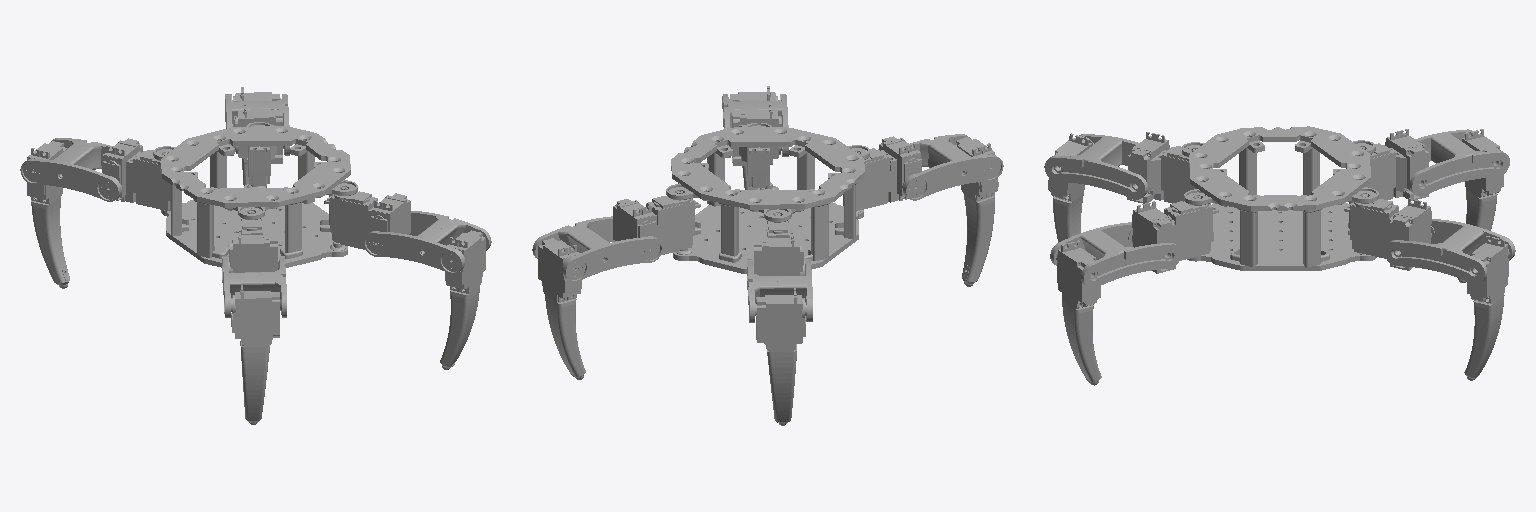
The robot description file, URDF, robot "full_body":
<?xml version="1.0" ?>
<!-- =================================================================================== -->
<!-- |    This document was autogenerated by xacro from urdf/full_body.xacro           | -->
<!-- |    EDITING THIS FILE BY HAND IS NOT RECOMMENDED                                 | -->
<!-- =================================================================================== -->
<robot xmlns:xacro="http://www.ros.org/wiki/xacro" name="full_body">
  <material name="silver">
    <color rgba="0.700 0.700 0.700 1.000"/>
  </material>
  <transmission name="FR_hip_tran">
    <type>transmission_interface/SimpleTransmission</type>
    <joint name="FR_hip">
      <hardwareInterface>hardware_interface/EffortJointInterface</hardwareInterface>
    </joint>
    <actuator name="FR_hip_actr">
      <hardwareInterface>hardware_interface/EffortJointInterface</hardwareInterface>
      <mechanicalReduction>1</mechanicalReduction>
    </actuator>
  </transmission>
  <transmission name="FR_thigh_tran">
    <type>transmission_interface/SimpleTransmission</type>
    <joint name="FR_thigh">
      <hardwareInterface>hardware_interface/EffortJointInterface</hardwareInterface>
    </joint>
    <actuator name="FR_thigh_actr">
      <hardwareInterface>hardware_interface/EffortJointInterface</hardwareInterface>
      <mechanicalReduction>1</mechanicalReduction>
    </actuator>
  </transmission>
  <transmission name="FR_calf_tran">
    <type>transmission_interface/SimpleTransmission</type>
    <joint name="FR_calf">
      <hardwareInterface>hardware_interface/EffortJointInterface</hardwareInterface>
    </joint>
    <actuator name="FR_calf_actr">
      <hardwareInterface>hardware_interface/EffortJointInterface</hardwareInterface>
      <mechanicalReduction>1</mechanicalReduction>
    </actuator>
  </transmission>
  <transmission name="BR_hip_tran">
    <type>transmission_interface/SimpleTransmission</type>
    <joint name="BR_hip">
      <hardwareInterface>hardware_interface/EffortJointInterface</hardwareInterface>
    </joint>
    <actuator name="BR_hip_actr">
      <hardwareInterface>hardware_interface/EffortJointInterface</hardwareInterface>
      <mechanicalReduction>1</mechanicalReduction>
    </actuator>
  </transmission>
  <transmission name="BR_thigh_tran">
    <type>transmission_interface/SimpleTransmission</type>
    <joint name="BR_thigh">
      <hardwareInterface>hardware_interface/EffortJointInterface</hardwareInterface>
    </joint>
    <actuator name="BR_thigh_actr">
      <hardwareInterface>hardware_interface/EffortJointInterface</hardwareInterface>
      <mechanicalReduction>1</mechanicalReduction>
    </actuator>
  </transmission>
  <transmission name="BR_calf_tran">
    <type>transmission_interface/SimpleTransmission</type>
    <joint name="BR_calf">
      <hardwareInterface>hardware_interface/EffortJointInterface</hardwareInterface>
    </joint>
    <actuator name="BR_calf_actr">
      <hardwareInterface>hardware_interface/EffortJointInterface</hardwareInterface>
      <mechanicalReduction>1</mechanicalReduction>
    </actuator>
  </transmission>
  <transmission name="BL_hip_tran">
    <type>transmission_interface/SimpleTransmission</type>
    <joint name="BL_hip">
      <hardwareInterface>hardware_interface/EffortJointInterface</hardwareInterface>
    </joint>
    <actuator name="BL_hip_actr">
      <hardwareInterface>hardware_interface/EffortJointInterface</hardwareInterface>
      <mechanicalReduction>1</mechanicalReduction>
    </actuator>
  </transmission>
  <transmission name="BL_thigh_tran">
    <type>transmission_interface/SimpleTransmission</type>
    <joint name="BL_thigh">
      <hardwareInterface>hardware_interface/EffortJointInterface</hardwareInterface>
    </joint>
    <actuator name="BL_thigh_actr">
      <hardwareInterface>hardware_interface/EffortJointInterface</hardwareInterface>
      <mechanicalReduction>1</mechanicalReduction>
    </actuator>
  </transmission>
  <transmission name="BL_calf_tran">
    <type>transmission_interface/SimpleTransmission</type>
    <joint name="BL_calf">
      <hardwareInterface>hardware_interface/EffortJointInterface</hardwareInterface>
    </joint>
    <actuator name="BL_calf_actr">
      <hardwareInterface>hardware_interface/EffortJointInterface</hardwareInterface>
      <mechanicalReduction>1</mechanicalReduction>
    </actuator>
  </transmission>
  <transmission name="FL_hip_tran">
    <type>transmission_interface/SimpleTransmission</type>
    <joint name="FL_hip">
      <hardwareInterface>hardware_interface/EffortJointInterface</hardwareInterface>
    </joint>
    <actuator name="FL_hip_actr">
      <hardwareInterface>hardware_interface/EffortJointInterface</hardwareInterface>
      <mechanicalReduction>1</mechanicalReduction>
    </actuator>
  </transmission>
  <transmission name="FL_thigh_tran">
    <type>transmission_interface/SimpleTransmission</type>
    <joint name="FL_thigh">
      <hardwareInterface>hardware_interface/EffortJointInterface</hardwareInterface>
    </joint>
    <actuator name="FL_thigh_actr">
      <hardwareInterface>hardware_interface/EffortJointInterface</hardwareInterface>
      <mechanicalReduction>1</mechanicalReduction>
    </actuator>
  </transmission>
  <transmission name="FL_calf_tran">
    <type>transmission_interface/SimpleTransmission</type>
    <joint name="FL_calf">
      <hardwareInterface>hardware_interface/EffortJointInterface</hardwareInterface>
    </joint>
    <actuator name="FL_calf_actr">
      <hardwareInterface>hardware_interface/EffortJointInterface</hardwareInterface>
      <mechanicalReduction>1</mechanicalReduction>
    </actuator>
  </transmission>
  <gazebo>
    <plugin name="control" filename="libgazebo_ros_control.so"/>
  </gazebo>
  <gazebo reference="base_link">
    <material>Gazebo/Silver</material>
    <mu1>0.2</mu1>
    <mu2>0.2</mu2>
    <selfCollide>true</selfCollide>
    <gravity>true</gravity>
  </gazebo>
  <gazebo reference="front_right_hip_1">
    <material>Gazebo/Silver</material>
    <mu1>0.2</mu1>
    <mu2>0.2</mu2>
    <selfCollide>true</selfCollide>
  </gazebo>
  <gazebo reference="front_right_thigh_1">
    <material>Gazebo/Silver</material>
    <mu1>0.2</mu1>
    <mu2>0.2</mu2>
    <selfCollide>true</selfCollide>
  </gazebo>
  <gazebo reference="front_right_calf_1">
    <material>Gazebo/Silver</material>
    <mu1>0.2</mu1>
    <mu2>0.2</mu2>
    <selfCollide>true</selfCollide>
  </gazebo>
  <gazebo reference="back_right_hip_1">
    <material>Gazebo/Silver</material>
    <mu1>0.2</mu1>
    <mu2>0.2</mu2>
    <selfCollide>true</selfCollide>
  </gazebo>
  <gazebo reference="back_right_thigh_1">
    <material>Gazebo/Silver</material>
    <mu1>0.2</mu1>
    <mu2>0.2</mu2>
    <selfCollide>true</selfCollide>
  </gazebo>
  <gazebo reference="back_right_calf_1">
    <material>Gazebo/Silver</material>
    <mu1>0.2</mu1>
    <mu2>0.2</mu2>
    <selfCollide>true</selfCollide>
  </gazebo>
  <gazebo reference="back_left_hip_1">
    <material>Gazebo/Silver</material>
    <mu1>0.2</mu1>
    <mu2>0.2</mu2>
    <selfCollide>true</selfCollide>
  </gazebo>
  <gazebo reference="back_left_thigh_1">
    <material>Gazebo/Silver</material>
    <mu1>0.2</mu1>
    <mu2>0.2</mu2>
    <selfCollide>true</selfCollide>
  </gazebo>
  <gazebo reference="back_left_calf_1">
    <material>Gazebo/Silver</material>
    <mu1>0.2</mu1>
    <mu2>0.2</mu2>
    <selfCollide>true</selfCollide>
  </gazebo>
  <gazebo reference="front_left_hip_1">
    <material>Gazebo/Silver</material>
    <mu1>0.2</mu1>
    <mu2>0.2</mu2>
    <selfCollide>true</selfCollide>
  </gazebo>
  <gazebo reference="front_left_thigh_1">
    <material>Gazebo/Silver</material>
    <mu1>0.2</mu1>
    <mu2>0.2</mu2>
    <selfCollide>true</selfCollide>
  </gazebo>
  <gazebo reference="front_left_calf_1">
    <material>Gazebo/Silver</material>
    <mu1>0.2</mu1>
    <mu2>0.2</mu2>
    <selfCollide>true</selfCollide>
  </gazebo>
  <link name="base_link">
    <inertial>
      <origin xyz="-0.009783288059672884 -0.12747137130856984 0.019319313780907642" rpy="0 0 0"/>
      <mass value="0.25174810750691173"/>
      <inertia ixx="0.000821" iyy="0.000784" izz="0.00117" ixy="1e-06" iyz="2e-06" ixz="-3e-06"/>
    </inertial>
    <visual>
      <origin xyz="0 0 0" rpy="0 0 0"/>
      <geometry>
        <mesh filename="package://full_body_description/meshes/base_link.stl" scale="0.001 0.001 0.001"/>
      </geometry>
      <material name="silver"/>
    </visual>
    <collision>
      <origin xyz="0 0 0" rpy="0 0 0"/>
      <geometry>
        <mesh filename="package://full_body_description/meshes/base_link.stl" scale="0.001 0.001 0.001"/>
      </geometry>
    </collision>
  </link>
  <link name="front_right_hip_1">
    <inertial>
      <origin xyz="0.014838296762223015 -0.025343712502017723 -0.027556197731714076" rpy="0 0 0"/>
      <mass value="0.07326383105165434"/>
      <inertia ixx="3.7e-05" iyy="2.5e-05" izz="3.7e-05" ixy="1e-05" iyz="-2e-06" ixz="2e-06"/>
    </inertial>
    <visual>
      <origin xyz="-0.043129 0.202081 -0.052509" rpy="0 0 0"/>
      <geometry>
        <mesh filename="package://full_body_description/meshes/front_right_hip_1.stl" scale="0.001 0.001 0.001"/>
      </geometry>
      <material name="silver"/>
    </visual>
    <collision>
      <origin xyz="-0.043129 0.202081 -0.052509" rpy="0 0 0"/>
      <geometry>
        <mesh filename="package://full_body_description/meshes/front_right_hip_1.stl" scale="0.001 0.001 0.001"/>
      </geometry>
    </collision>
  </link>
  <link name="front_right_thigh_1">
    <inertial>
      <origin xyz="0.04645622013155958 -0.02403544432134591 0.003395758520891773" rpy="0 0 0"/>
      <mass value="0.043975254567150325"/>
      <inertia ixx="2.2e-05" iyy="2.2e-05" izz="3.9e-05" ixy="0.0" iyz="0.0" ixz="-0.0"/>
    </inertial>
    <visual>
      <origin xyz="-0.045399 0.256492 -0.016413" rpy="0 0 0"/>
      <geometry>
        <mesh filename="package://full_body_description/meshes/front_right_thigh_1.stl" scale="0.001 0.001 0.001"/>
      </geometry>
      <material name="silver"/>
    </visual>
    <collision>
      <origin xyz="-0.045399 0.256492 -0.016413" rpy="0 0 0"/>
      <geometry>
        <mesh filename="package://full_body_description/meshes/front_right_thigh_1.stl" scale="0.001 0.001 0.001"/>
      </geometry>
    </collision>
  </link>
  <link name="front_right_calf_1">
    <inertial>
      <origin xyz="0.020339292125749267 0.014723762097453463 -0.039301824943854695" rpy="0 0 0"/>
      <mass value="0.06443506975038105"/>
      <inertia ixx="8.3e-05" iyy="8.4e-05" izz="9e-06" ixy="-1e-06" iyz="7e-06" ixz="-3e-06"/>
    </inertial>
    <visual>
      <origin xyz="-0.087272 0.324658 -0.016413" rpy="0 0 0"/>
      <geometry>
        <mesh filename="package://full_body_description/meshes/front_right_calf_1.stl" scale="0.001 0.001 0.001"/>
      </geometry>
      <material name="silver"/>
    </visual>
    <collision>
      <origin xyz="-0.087272 0.324658 -0.016413" rpy="0 0 0"/>
      <geometry>
        <mesh filename="package://full_body_description/meshes/front_right_calf_1.stl" scale="0.001 0.001 0.001"/>
      </geometry>
    </collision>
  </link>
  <link name="back_right_hip_1">
    <inertial>
      <origin xyz="-0.014529053797875356 -0.025522745701421795 -0.027556197764197078" rpy="0 0 0"/>
      <mass value="0.07326383109031377"/>
      <inertia ixx="3.7e-05" iyy="2.5e-05" izz="3.7e-05" ixy="-1.1e-05" iyz="-2e-06" ixz="-0.0"/>
    </inertial>
    <visual>
      <origin xyz="0.058276 0.20441 -0.052509" rpy="0 0 0"/>
      <geometry>
        <mesh filename="package://full_body_description/meshes/back_right_hip_1.stl" scale="0.001 0.001 0.001"/>
      </geometry>
      <material name="silver"/>
    </visual>
    <collision>
      <origin xyz="0.058276 0.20441 -0.052509" rpy="0 0 0"/>
      <geometry>
        <mesh filename="package://full_body_description/meshes/back_right_hip_1.stl" scale="0.001 0.001 0.001"/>
      </geometry>
    </collision>
  </link>
  <link name="back_right_thigh_1">
    <inertial>
      <origin xyz="0.0024126058142937556 -0.05224985242728192 0.0033957655301711485" rpy="0 0 0"/>
      <mass value="0.043975104077995854"/>
      <inertia ixx="2.2e-05" iyy="2.2e-05" izz="3.9e-05" ixy="0.0" iyz="0.0" ixz="0.0"/>
    </inertial>
    <visual>
      <origin xyz="0.104262 0.233582 -0.016413" rpy="0 0 0"/>
      <geometry>
        <mesh filename="package://full_body_description/meshes/back_right_thigh_1.stl" scale="0.001 0.001 0.001"/>
      </geometry>
      <material name="silver"/>
    </visual>
    <collision>
      <origin xyz="0.104262 0.233582 -0.016413" rpy="0 0 0"/>
      <geometry>
        <mesh filename="package://full_body_description/meshes/back_right_thigh_1.stl" scale="0.001 0.001 0.001"/>
      </geometry>
    </collision>
  </link>
  <link name="back_right_calf_1">
    <inertial>
      <origin xyz="0.021286869001586453 -0.013263703736651256 -0.03933231200753699" rpy="0 0 0"/>
      <mass value="0.06444549906966254"/>
      <inertia ixx="8.3e-05" iyy="8.5e-05" izz="8e-06" ixy="1e-06" iyz="-0.0" ixz="1e-06"/>
    </inertial>
    <visual>
      <origin xyz="0.142359 0.303928 -0.016413" rpy="0 0 0"/>
      <geometry>
        <mesh filename="package://full_body_description/meshes/back_right_calf_1.stl" scale="0.001 0.001 0.001"/>
      </geometry>
      <material name="silver"/>
    </visual>
    <collision>
      <origin xyz="0.142359 0.303928 -0.016413" rpy="0 0 0"/>
      <geometry>
        <mesh filename="package://full_body_description/meshes/back_right_calf_1.stl" scale="0.001 0.001 0.001"/>
      </geometry>
    </collision>
  </link>
  <link name="back_left_hip_1">
    <inertial>
      <origin xyz="-0.015897574065726672 0.024693707571381264 -0.027556219058615033" rpy="0 0 0"/>
      <mass value="0.07326376312814109"/>
      <inertia ixx="3.6e-05" iyy="2.6e-05" izz="3.7e-05" ixy="1.1e-05" iyz="2e-06" ixz="-1e-06"/>
    </inertial>
    <visual>
      <origin xyz="0.062364 0.053822 -0.052509" rpy="0 0 0"/>
      <geometry>
        <mesh filename="package://full_body_description/meshes/back_left_hip_1.stl" scale="0.001 0.001 0.001"/>
      </geometry>
      <material name="silver"/>
    </visual>
    <collision>
      <origin xyz="0.062364 0.053822 -0.052509" rpy="0 0 0"/>
      <geometry>
        <mesh filename="package://full_body_description/meshes/back_left_hip_1.stl" scale="0.001 0.001 0.001"/>
      </geometry>
    </collision>
  </link>
  <link name="back_left_thigh_1">
    <inertial>
      <origin xyz="-0.0004380348501835385 0.052303344318201356 0.0033965528694622944" rpy="0 0 0"/>
      <mass value="0.04397492344920401"/>
      <inertia ixx="2.2e-05" iyy="2.2e-05" izz="3.9e-05" ixy="0.0" iyz="-0.0" ixz="0.0"/>
    </inertial>
    <visual>
      <origin xyz="0.10987 0.027198 -0.016413" rpy="0 0 0"/>
      <geometry>
        <mesh filename="package://full_body_description/meshes/back_left_thigh_1.stl" scale="0.001 0.001 0.001"/>
      </geometry>
      <material name="silver"/>
    </visual>
    <collision>
      <origin xyz="0.10987 0.027198 -0.016413" rpy="0 0 0"/>
      <geometry>
        <mesh filename="package://full_body_description/meshes/back_left_thigh_1.stl" scale="0.001 0.001 0.001"/>
      </geometry>
    </collision>
  </link>
  <link name="back_left_calf_1">
    <inertial>
      <origin xyz="0.02233090959603723 0.011475768913108482 -0.03931455535825229" rpy="0 0 0"/>
      <mass value="0.06444611273292808"/>
      <inertia ixx="8.3e-05" iyy="8.4e-05" izz="9e-06" ixy="-1e-06" iyz="-6e-06" ixz="5e-06"/>
    </inertial>
    <visual>
      <origin xyz="0.151743 -0.040968 -0.016413" rpy="0 0 0"/>
      <geometry>
        <mesh filename="package://full_body_description/meshes/back_left_calf_1.stl" scale="0.001 0.001 0.001"/>
      </geometry>
      <material name="silver"/>
    </visual>
    <collision>
      <origin xyz="0.151743 -0.040968 -0.016413" rpy="0 0 0"/>
      <geometry>
        <mesh filename="package://full_body_description/meshes/back_left_calf_1.stl" scale="0.001 0.001 0.001"/>
      </geometry>
    </collision>
  </link>
  <link name="front_left_hip_1">
    <inertial>
      <origin xyz="0.013436376575627323 0.026114454274511235 -0.027556219179579518" rpy="0 0 0"/>
      <mass value="0.07326376312539898"/>
      <inertia ixx="3.9e-05" iyy="2.4e-05" izz="3.7e-05" ixy="-1e-05" iyz="2e-06" ixz="2e-06"/>
    </inertial>
    <visual>
      <origin xyz="-0.038966 0.050873 -0.052509" rpy="0 0 0"/>
      <geometry>
        <mesh filename="package://full_body_description/meshes/front_left_hip_1.stl" scale="0.001 0.001 0.001"/>
      </geometry>
      <material name="silver"/>
    </visual>
    <collision>
      <origin xyz="-0.038966 0.050873 -0.052509" rpy="0 0 0"/>
      <geometry>
        <mesh filename="package://full_body_description/meshes/front_left_hip_1.stl" scale="0.001 0.001 0.001"/>
      </geometry>
    </collision>
  </link>
  <link name="front_left_thigh_1">
    <inertial>
      <origin xyz="0.04507689797668257 0.02653036398956253 0.003396546271426059" rpy="0 0 0"/>
      <mass value="0.04397506830368732"/>
      <inertia ixx="2.2e-05" iyy="2.2e-05" izz="3.9e-05" ixy="-0.0" iyz="-0.0" ixz="-0.0"/>
    </inertial>
    <visual>
      <origin xyz="-0.03827 -0.003581 -0.016413" rpy="0 0 0"/>
      <geometry>
        <mesh filename="package://full_body_description/meshes/front_left_thigh_1.stl" scale="0.001 0.001 0.001"/>
      </geometry>
      <material name="silver"/>
    </visual>
    <collision>
      <origin xyz="-0.03827 -0.003581 -0.016413" rpy="0 0 0"/>
      <geometry>
        <mesh filename="package://full_body_description/meshes/front_left_thigh_1.stl" scale="0.001 0.001 0.001"/>
      </geometry>
    </collision>
  </link>
  <link name="front_left_calf_1">
    <inertial>
      <origin xyz="0.02110907579777284 -0.013597346741824924 -0.03929037567662348" rpy="0 0 0"/>
      <mass value="0.0644286979953138"/>
      <inertia ixx="8.3e-05" iyy="8.4e-05" izz="9e-06" ixy="1e-06" iyz="-7e-06" ixz="-2e-06"/>
    </inertial>
    <visual>
      <origin xyz="-0.076367 -0.073927 -0.016413" rpy="0 0 0"/>
      <geometry>
        <mesh filename="package://full_body_description/meshes/front_left_calf_1.stl" scale="0.001 0.001 0.001"/>
      </geometry>
      <material name="silver"/>
    </visual>
    <collision>
      <origin xyz="-0.076367 -0.073927 -0.016413" rpy="0 0 0"/>
      <geometry>
        <mesh filename="package://full_body_description/meshes/front_left_calf_1.stl" scale="0.001 0.001 0.001"/>
      </geometry>
    </collision>
  </link>
  <joint name="FR_hip" type="revolute">
    <origin xyz="0.043129 -0.202081 0.052509" rpy="0 0 0"/>
    <parent link="base_link"/>
    <child link="front_right_hip_1"/>
    <axis xyz="0.0 -0.0 1.0"/>
    <limit upper="0.698132" lower="-0.698132" effort="100" velocity="100"/>
  </joint>
  <joint name="FR_thigh" type="revolute">
    <origin xyz="0.00227 -0.054411 -0.036096" rpy="0 0 0"/>
    <parent link="front_right_hip_1"/>
    <child link="front_right_thigh_1"/>
    <axis xyz="-0.852079 -0.523413 -0.0"/>
    <limit upper="0.698132" lower="-0.698132" effort="100" velocity="100"/>
  </joint>
  <joint name="FR_calf" type="revolute">
    <origin xyz="0.041873 -0.068166 0.0" rpy="0 0 0"/>
    <parent link="front_right_thigh_1"/>
    <child link="front_right_calf_1"/>
    <axis xyz="0.852079 0.523413 0.0"/>
    <limit upper="0.698132" lower="-0.698132" effort="100" velocity="100"/>
  </joint>
  <joint name="BR_hip" type="revolute">
    <origin xyz="-0.058276 -0.20441 0.052509" rpy="0 0 0"/>
    <parent link="base_link"/>
    <child link="back_right_hip_1"/>
    <axis xyz="0.0 -0.0 1.0"/>
    <limit upper="0.698132" lower="-0.698132" effort="100" velocity="100"/>
  </joint>
  <joint name="BR_thigh" type="revolute">
    <origin xyz="-0.045986 -0.029172 -0.036096" rpy="0 0 0"/>
    <parent link="back_right_hip_1"/>
    <child link="back_right_thigh_1"/>
    <axis xyz="-0.879328 0.476216 0.0"/>
    <limit upper="0.698132" lower="-0.698132" effort="100" velocity="100"/>
  </joint>
  <joint name="BR_calf" type="revolute">
    <origin xyz="-0.038097 -0.070346 0.0" rpy="0 0 0"/>
    <parent link="back_right_thigh_1"/>
    <child link="back_right_calf_1"/>
    <axis xyz="0.879328 -0.476216 -0.0"/>
    <limit upper="0.698132" lower="-0.698132" effort="100" velocity="100"/>
  </joint>
  <joint name="BL_hip" type="revolute">
    <origin xyz="-0.062364 -0.053822 0.052509" rpy="0 0 0"/>
    <parent link="base_link"/>
    <child link="back_left_hip_1"/>
    <axis xyz="0.0 -0.0 1.0"/>
    <limit upper="0.698132" lower="-0.698132" effort="100" velocity="100"/>
  </joint>
  <joint name="BL_thigh" type="revolute">
    <origin xyz="-0.047506 0.026624 -0.036096" rpy="0 0 0"/>
    <parent link="back_left_hip_1"/>
    <child link="back_left_thigh_1"/>
    <axis xyz="-0.852079 -0.523413 0.0"/>
    <limit upper="0.698132" lower="-0.698132" effort="100" velocity="100"/>
  </joint>
  <joint name="BL_calf" type="revolute">
    <origin xyz="-0.041873 0.068166 0.0" rpy="0 0 0"/>
    <parent link="back_left_thigh_1"/>
    <child link="back_left_calf_1"/>
    <axis xyz="-0.852079 -0.523413 0.0"/>
    <limit upper="0.698132" lower="-0.698132" effort="100" velocity="100"/>
  </joint>
  <joint name="FL_hip" type="revolute">
    <origin xyz="0.038966 -0.050873 0.052509" rpy="0 0 0"/>
    <parent link="base_link"/>
    <child link="front_left_hip_1"/>
    <axis xyz="0.0 -0.0 1.0"/>
    <limit upper="0.698132" lower="-0.698132" effort="100" velocity="100"/>
  </joint>
  <joint name="FL_thigh" type="revolute">
    <origin xyz="-0.000696 0.054454 -0.036096" rpy="0 0 0"/>
    <parent link="front_left_hip_1"/>
    <child link="front_left_thigh_1"/>
    <axis xyz="-0.879328 0.476216 0.0"/>
    <limit upper="0.698132" lower="-0.698132" effort="100" velocity="100"/>
  </joint>
  <joint name="FL_calf" type="revolute">
    <origin xyz="0.038097 0.070346 0.0" rpy="0 0 0"/>
    <parent link="front_left_thigh_1"/>
    <child link="front_left_calf_1"/>
    <axis xyz="-0.879328 0.476216 0.0"/>
    <limit upper="0.698132" lower="-0.698132" effort="100" velocity="100"/>
  </joint>
</robot>

--- Facts derived from the render (not from the file) ---
Views: 3 orthographic renders of the robot side by side, from view 1: azimuth 30°, elevation 25°; view 2: azimuth 150°, elevation 25°; view 3: azimuth 270°, elevation 25°.
Model full_body with 13 links and 12 joints (12 revolute), rooted at base_link, posed every joint at zero.
Visible links, largest first — view 1: base_link, back_right_calf_1, front_right_thigh_1, back_left_thigh_1, front_right_hip_1, front_right_calf_1, back_left_hip_1, back_left_calf_1, back_right_hip_1, front_left_hip_1, back_right_thigh_1, front_left_thigh_1 (+1 smaller); view 2: base_link, back_left_calf_1, front_left_thigh_1, front_left_calf_1, back_right_thigh_1, front_left_hip_1, back_right_hip_1, back_right_calf_1, back_left_hip_1, front_right_hip_1, back_left_thigh_1, front_right_thigh_1 (+1 smaller); view 3: base_link, front_left_thigh_1, front_right_thigh_1, back_right_thigh_1, front_right_calf_1, back_left_thigh_1, front_left_hip_1, front_right_hip_1, front_left_calf_1, back_right_hip_1, back_left_hip_1, back_right_calf_1 (+1 smaller).
Link boxes in pixels (box(x1,y1,x2,y2)): base_link: box(153, 122, 357, 267); back_right_calf_1: box(231, 285, 279, 424); front_right_thigh_1: box(364, 211, 491, 273); back_left_thigh_1: box(20, 138, 121, 201); front_right_hip_1: box(324, 187, 410, 249); front_right_calf_1: box(440, 230, 485, 369); back_left_hip_1: box(102, 138, 170, 210); back_left_calf_1: box(27, 141, 69, 288); back_right_hip_1: box(229, 211, 277, 272); front_left_hip_1: box(234, 104, 282, 185); back_right_thigh_1: box(222, 256, 286, 317); front_left_thigh_1: box(225, 94, 289, 155); base_link: box(666, 123, 869, 273); back_left_calf_1: box(756, 288, 806, 425); front_left_thigh_1: box(532, 216, 662, 281); front_left_calf_1: box(538, 238, 585, 379); back_right_thigh_1: box(903, 134, 1003, 200); front_left_hip_1: box(613, 191, 700, 254); back_right_hip_1: box(843, 136, 921, 211); back_right_calf_1: box(955, 137, 998, 286); back_left_hip_1: box(754, 213, 803, 275); front_right_hip_1: box(732, 103, 781, 187); back_left_thigh_1: box(747, 259, 812, 322); front_right_thigh_1: box(722, 94, 788, 157); base_link: box(1182, 126, 1378, 270); front_left_thigh_1: box(1384, 219, 1515, 283); front_right_thigh_1: box(1050, 222, 1181, 288); back_right_thigh_1: box(1044, 134, 1147, 199); front_right_calf_1: box(1056, 240, 1101, 385); back_left_thigh_1: box(1409, 129, 1509, 196); front_left_hip_1: box(1344, 194, 1431, 270); front_right_hip_1: box(1132, 196, 1218, 273); front_left_calf_1: box(1464, 236, 1509, 380); back_right_hip_1: box(1127, 132, 1196, 203); back_left_hip_1: box(1346, 129, 1428, 200); back_right_calf_1: box(1048, 133, 1091, 242).
Size in the robot's own frame: 0.301 by 0.4265 by 0.1694 metres.
Meshes: 13 distinct files referenced, 13 mesh visuals loaded (13 binary STL).
